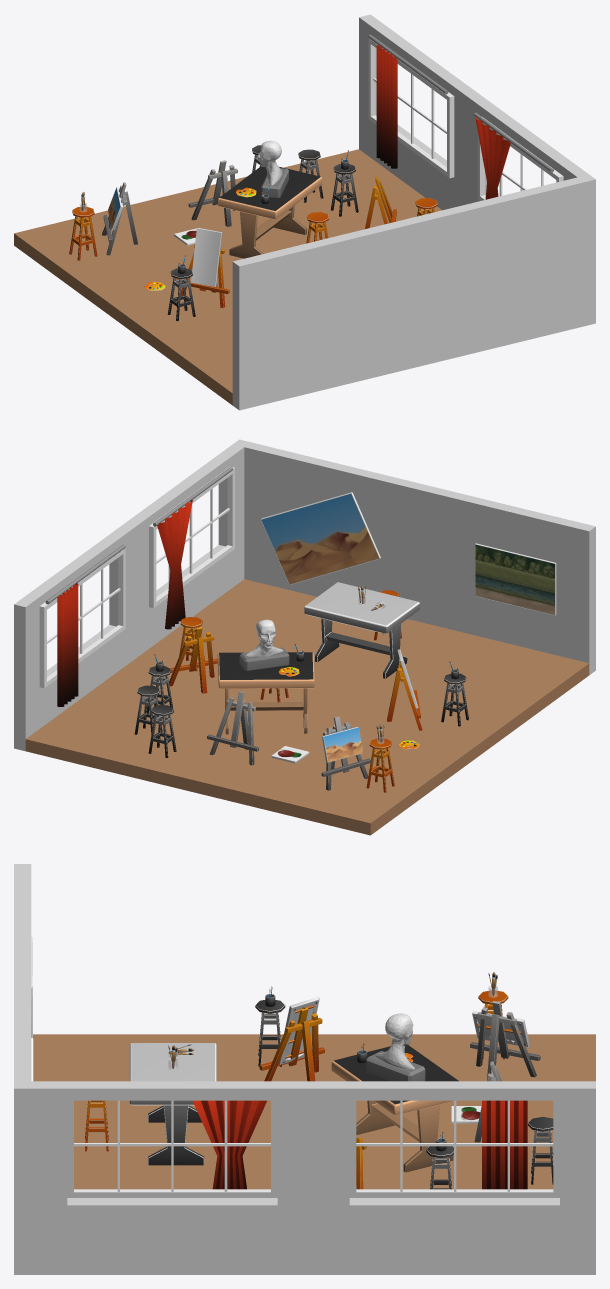
3 views of the same model, one above another, from view 1: azimuth 30°, elevation 25°; view 2: azimuth 150°, elevation 25°; view 3: azimuth 270°, elevation 25° (orthographic). The views are drawn at different scales.
Parts seen in each view (by area): view 1: wallfloorartroom_0, table.002_1, curtains_26, curtains.002_31, painting.003_16, statue.001_6, easel.005_30, stool.002_8, stool.006_12, stool.008_14, easel.003_4, easel.004_5 (+1 smaller); view 2: wallfloorartroom_0, paintingreal.004_28, table.003_2, paintingreal.003_17, table.002_1, curtains_26, curtains.002_31, easel.005_30, statue.001_6, easel.004_5, paintingreal.002_7, easel.003_4 (+6 smaller); view 3: wallfloorartroom_0, table.003_2, table.002_1, curtains_26, curtains.002_31, statue.001_6, easel.003_4, easel.002_3, stool.009_15, painting.003_16, stool.006_12, stool.008_14 (+2 smaller).
Part boxes in pixels (x1,y1,x2,y2): wallfloorartroom_0: [14, 14, 595, 410]; table.002_1: [218, 166, 322, 258]; curtains_26: [368, 34, 448, 168]; curtains.002_31: [475, 117, 510, 199]; painting.003_16: [190, 227, 222, 286]; statue.001_6: [257, 140, 288, 197]; easel.005_30: [188, 160, 237, 226]; stool.002_8: [69, 206, 97, 260]; stool.006_12: [167, 268, 195, 320]; stool.008_14: [331, 164, 358, 216]; easel.003_4: [102, 182, 138, 255]; easel.004_5: [365, 176, 396, 228]; wallfloorartroom_0: [14, 439, 595, 835]; paintingreal.004_28: [261, 492, 380, 584]; table.003_2: [304, 582, 419, 678]; paintingreal.003_17: [475, 543, 556, 615]; table.002_1: [217, 652, 314, 734]; curtains_26: [45, 544, 125, 706]; curtains.002_31: [157, 499, 192, 629]; easel.005_30: [207, 691, 258, 765]; statue.001_6: [239, 619, 289, 670]; easel.004_5: [169, 627, 217, 693]; paintingreal.002_7: [322, 727, 363, 762]; easel.003_4: [321, 716, 370, 790]; wallfloorartroom_0: [14, 864, 595, 1274]; table.003_2: [129, 1043, 216, 1165]; table.002_1: [331, 1045, 458, 1172]; curtains_26: [482, 1100, 527, 1189]; curtains.002_31: [193, 1100, 266, 1189]; statue.001_6: [366, 1013, 425, 1081]; easel.003_4: [470, 1001, 540, 1078]; easel.002_3: [259, 1007, 324, 1081]; stool.009_15: [528, 1117, 553, 1184]; painting.003_16: [278, 997, 319, 1064]; stool.006_12: [255, 1000, 285, 1066]; stool.008_14: [426, 1146, 453, 1189].
Bounding box in the file's own units: 9.16 × 3.54 × 10.03.
4 materials, 3 textured.
